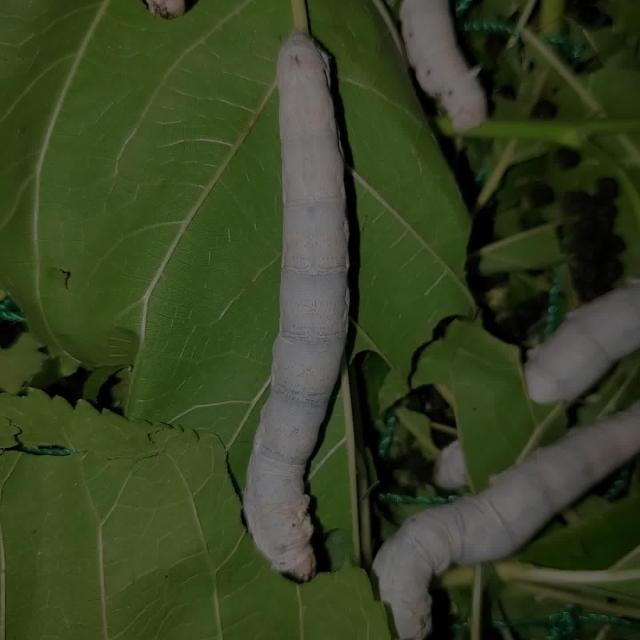Healthy: (370, 242, 640, 640), (202, 12, 367, 585)
